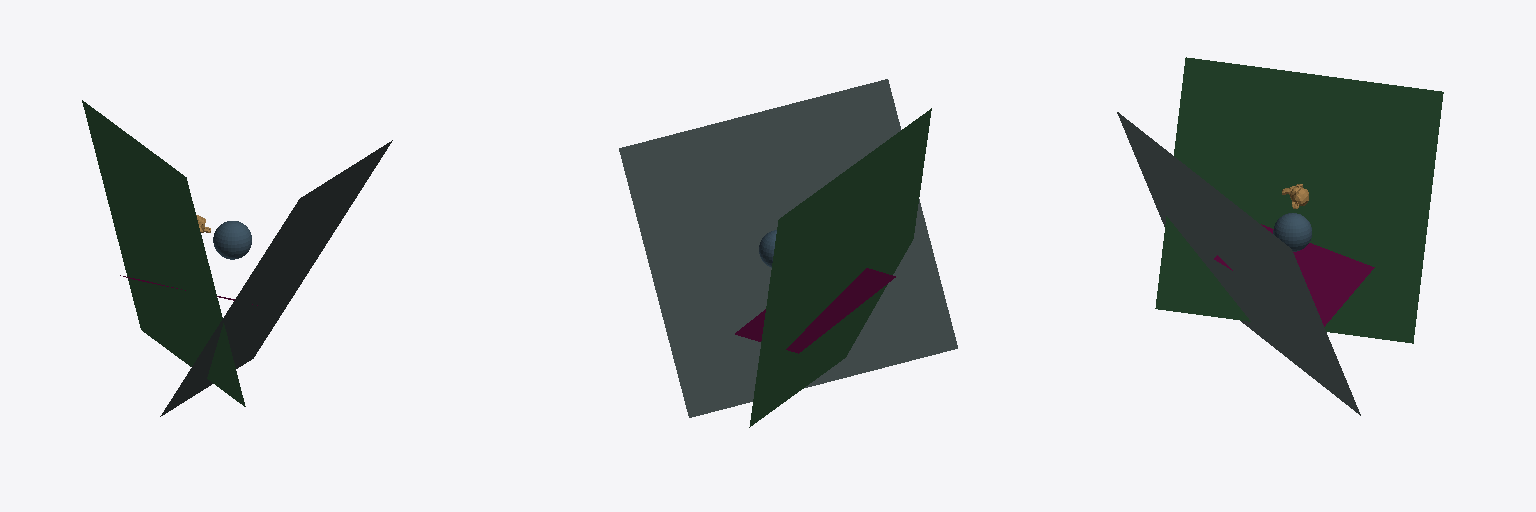
Rendered from monkey.obj.
3 renders of one model, left to right at view 1: azimuth 30°, elevation 25°; view 2: azimuth 150°, elevation 25°; view 3: azimuth 270°, elevation 25°, orthographic.
Visible parts, largest first — view 1: Plane.002, Plane.001, Sphere; view 2: Plane.001, Plane.002, Plane.000; view 3: Plane.002, Plane.001, Plane.000, Sphere.
Boxes of the visible parts, box(x1,y1,x2,y2) form: Plane.002: box(82, 100, 245, 406); Plane.001: box(160, 140, 392, 416); Sphere: box(213, 221, 251, 259); Plane.001: box(619, 79, 957, 417); Plane.002: box(749, 108, 931, 427); Plane.000: box(735, 268, 895, 353); Plane.002: box(1155, 57, 1443, 343); Plane.001: box(1117, 112, 1360, 415); Plane.000: box(1214, 224, 1374, 326); Sphere: box(1273, 213, 1311, 251).
Bounding box in the file's own units: 25.47 × 24.08 × 25.19.